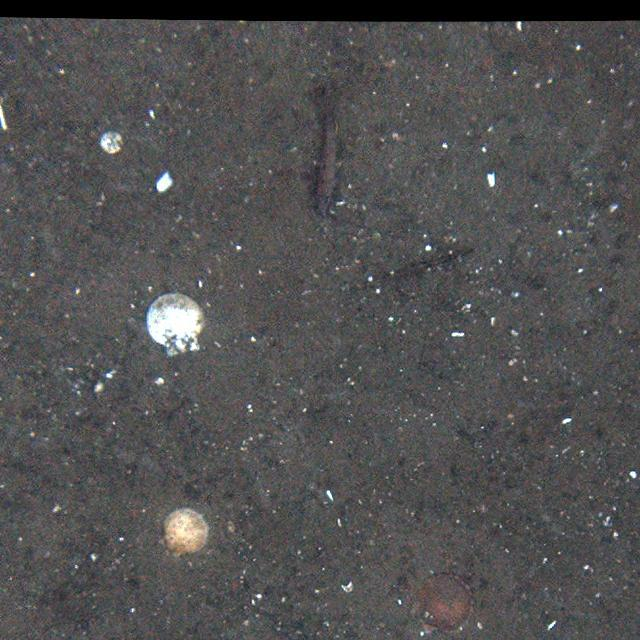roundfish: (309, 98, 342, 218)
